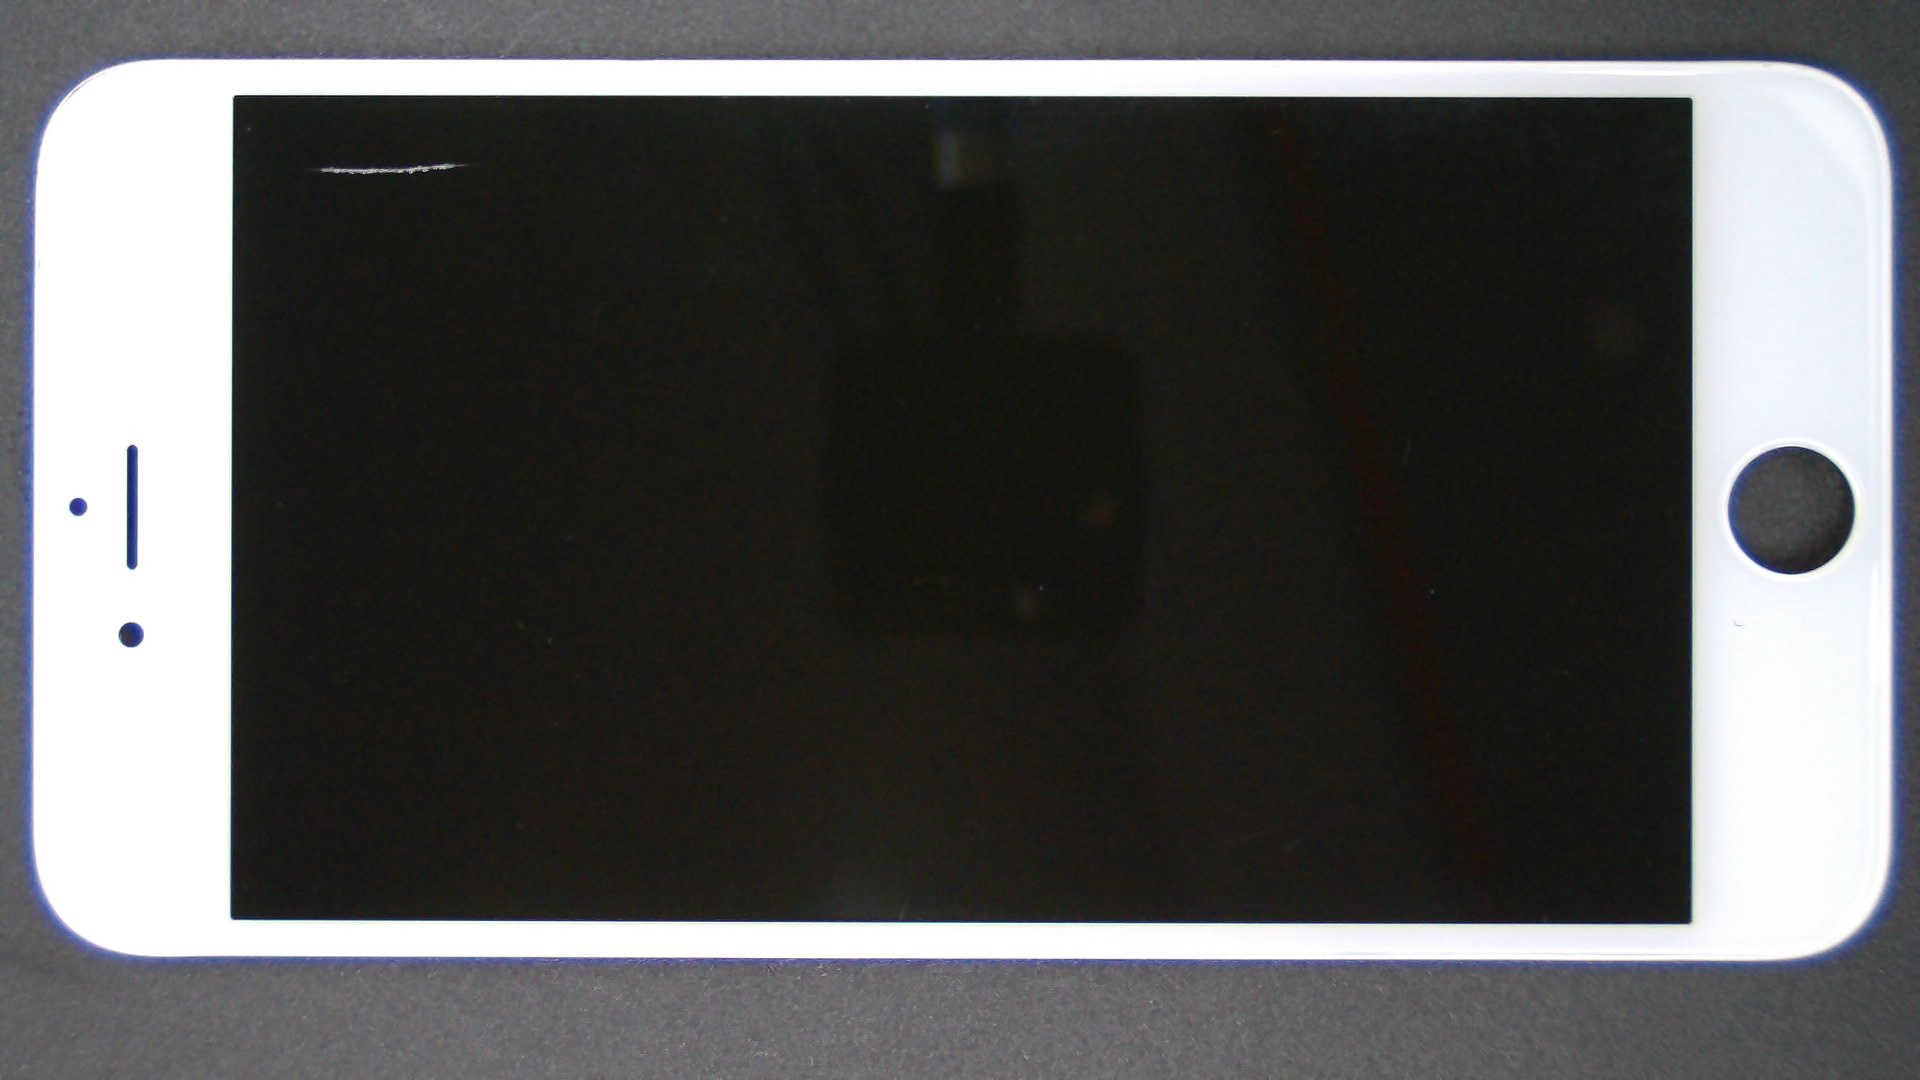oil: (225, 80, 673, 245)
